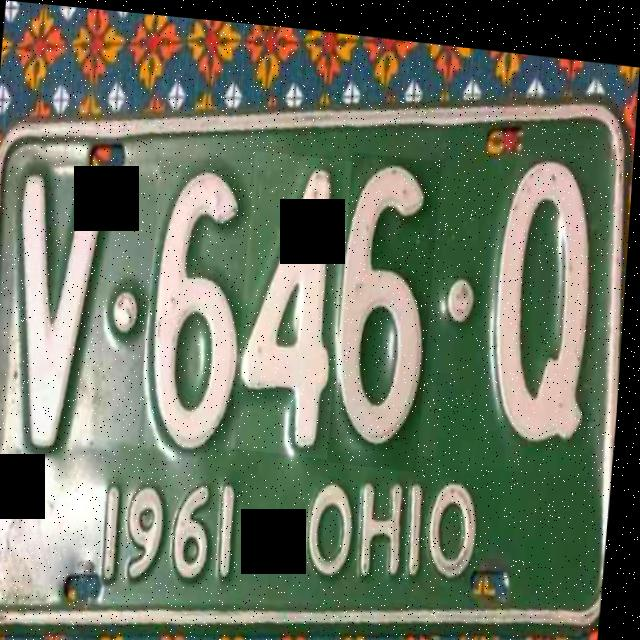4: (237, 145, 354, 452)
6: (142, 138, 260, 463), (331, 143, 444, 464)
Q: (478, 131, 617, 466)
V: (0, 145, 120, 452)
